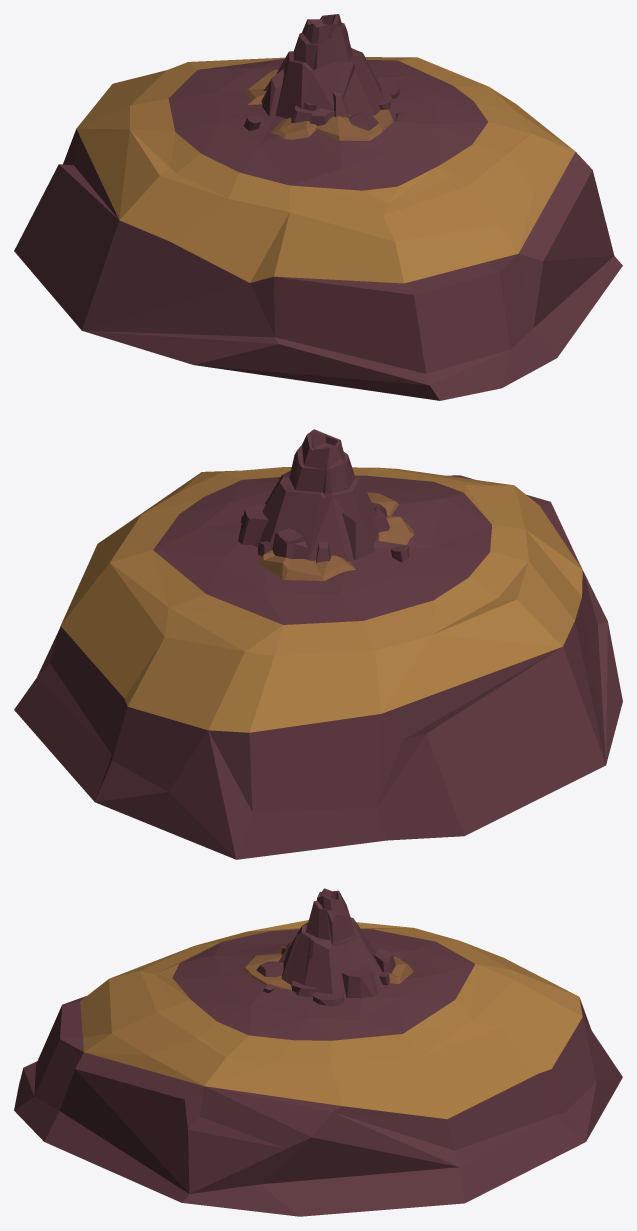
File: island-vulcano.fbx
3 renders of one model, top to bottom at view 1: azimuth 30°, elevation 25°; view 2: azimuth 150°, elevation 25°; view 3: azimuth 270°, elevation 25°, orthographic. The views are drawn at different scales.
Parts seen in each view (by area): view 1: island-vulcano; view 2: island-vulcano; view 3: island-vulcano.
Part boxes in pixels (x1,y1,x2,y2): island-vulcano: (14, 14, 622, 400); island-vulcano: (14, 429, 622, 859); island-vulcano: (14, 888, 622, 1216).
Bounding box in the file's own units: 168 × 81.57 × 202.
